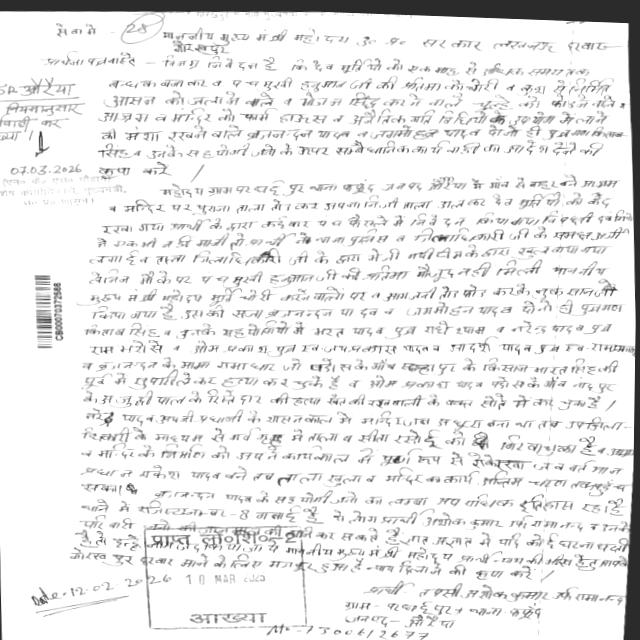antritgovtstamp: (137, 519, 312, 636)
barcode: (20, 267, 73, 355)
signnamestamp: (0, 119, 131, 214)
